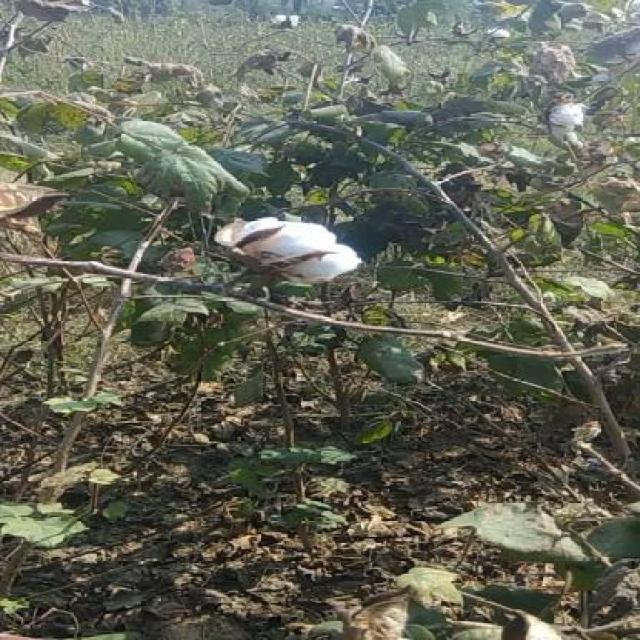cotton_ready: (220, 208, 382, 304)
